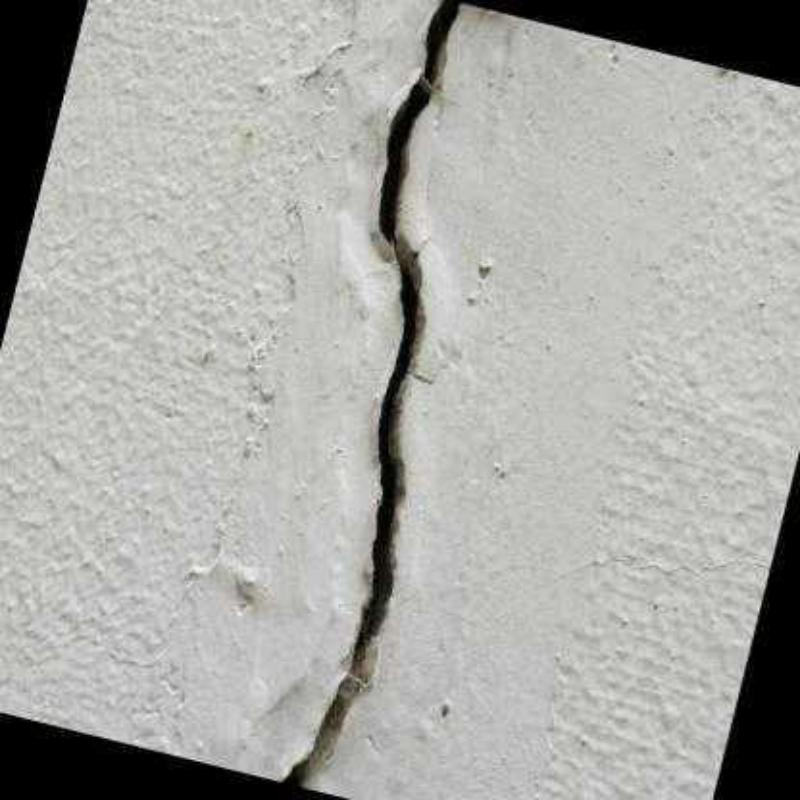crack: (281, 0, 463, 789)
